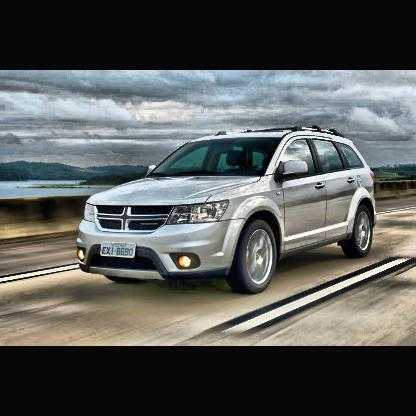Dodge Journey SUV 2012: (81, 128, 378, 295)
